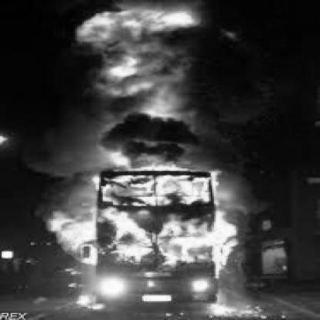Fire: (29, 0, 255, 267), (74, 293, 106, 313)
